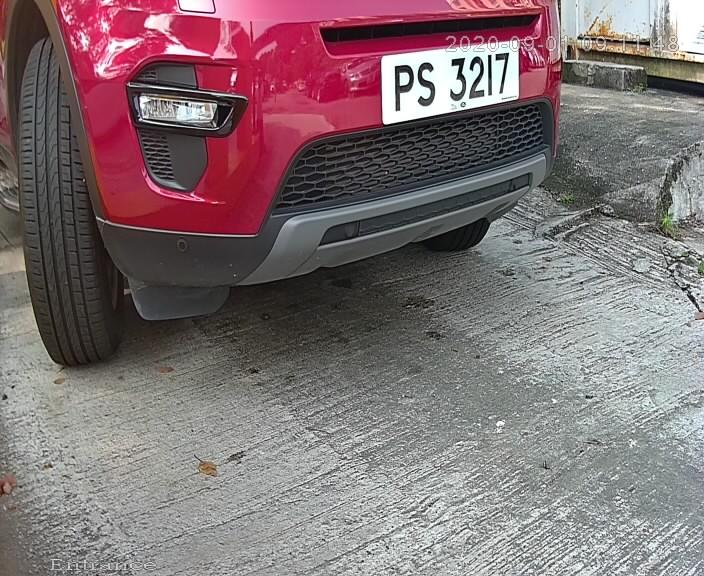License Plate: (371, 29, 525, 132)
